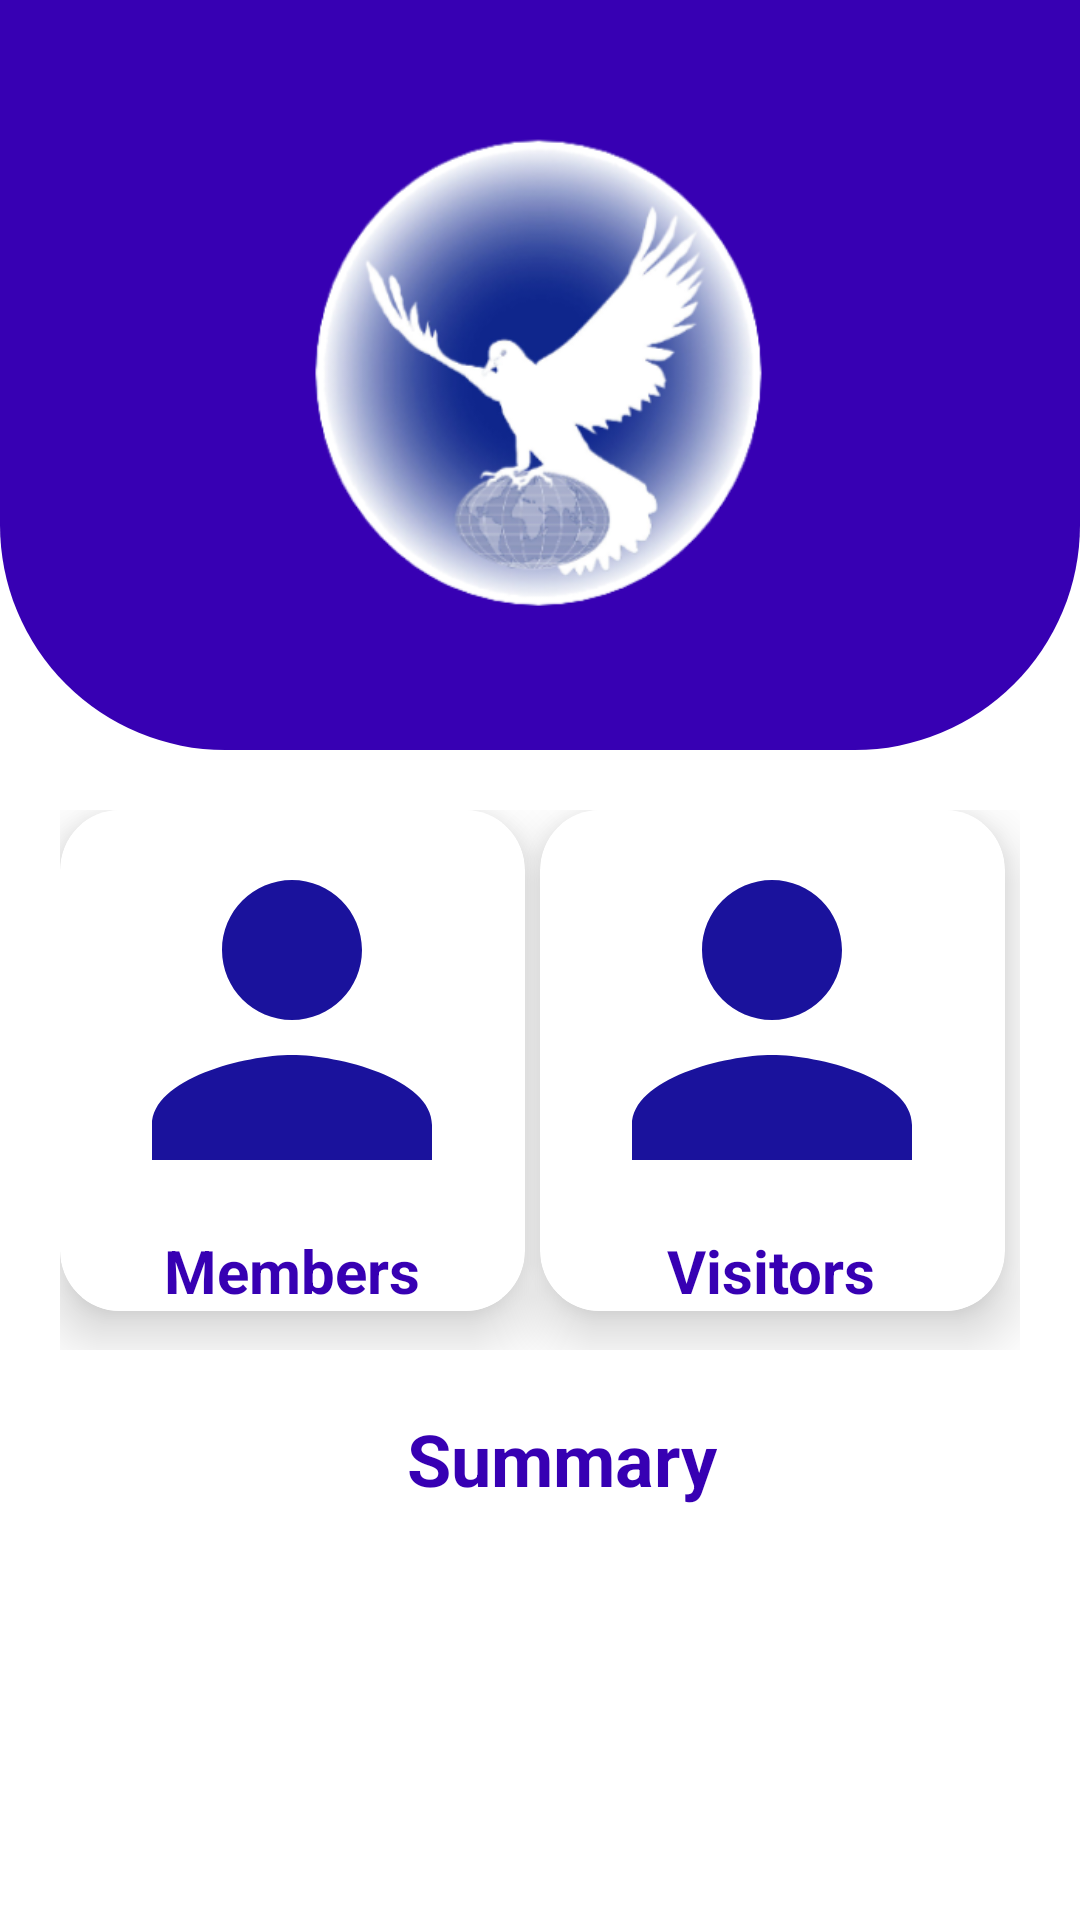

Locate icon controls on the screen. Image size 1080 x 1920, boxes as Rect(x1, y1, x2, y2).
person: Rect(152, 880, 432, 1160)
